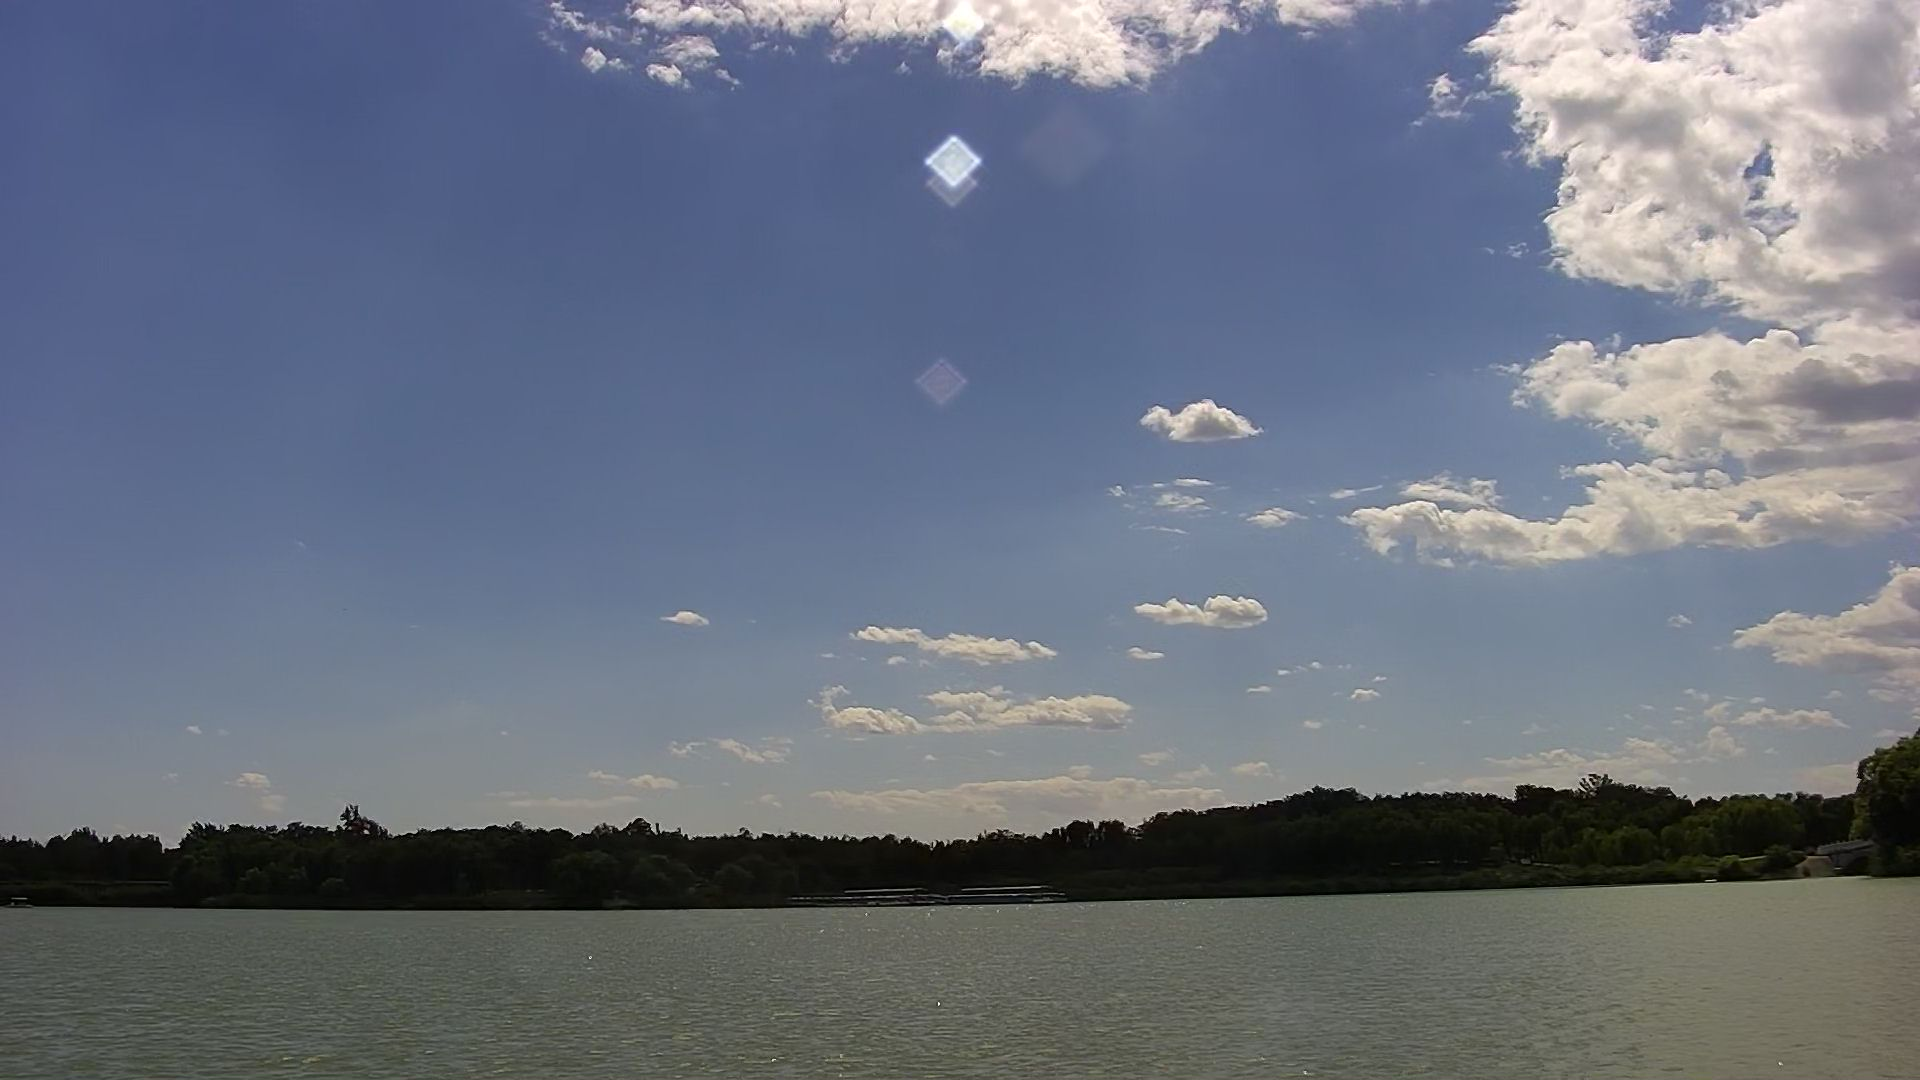harbor: (823, 887, 1039, 909)
